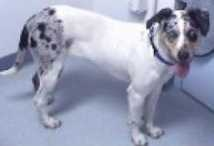dog: (13, 0, 214, 112)
